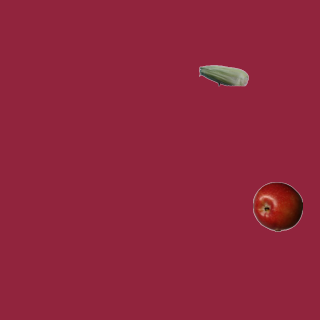Apple Braeburn: (252, 181, 302, 231)
Corn Husk: (198, 50, 248, 100)
